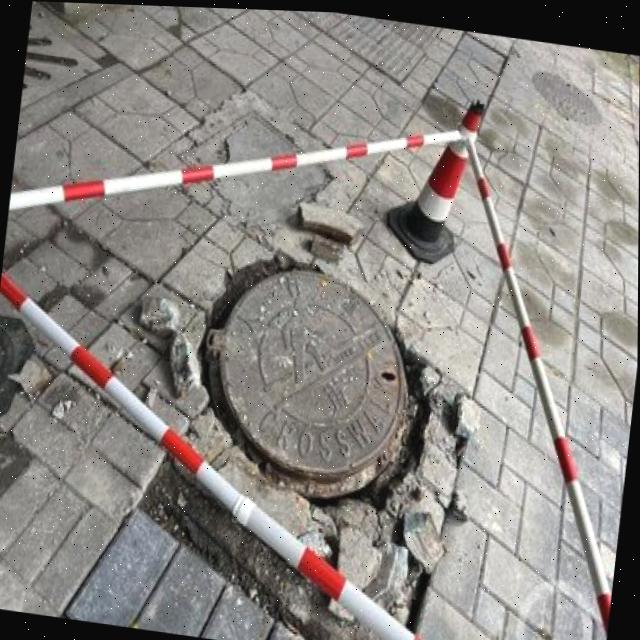manhole: (176, 235, 463, 525)
